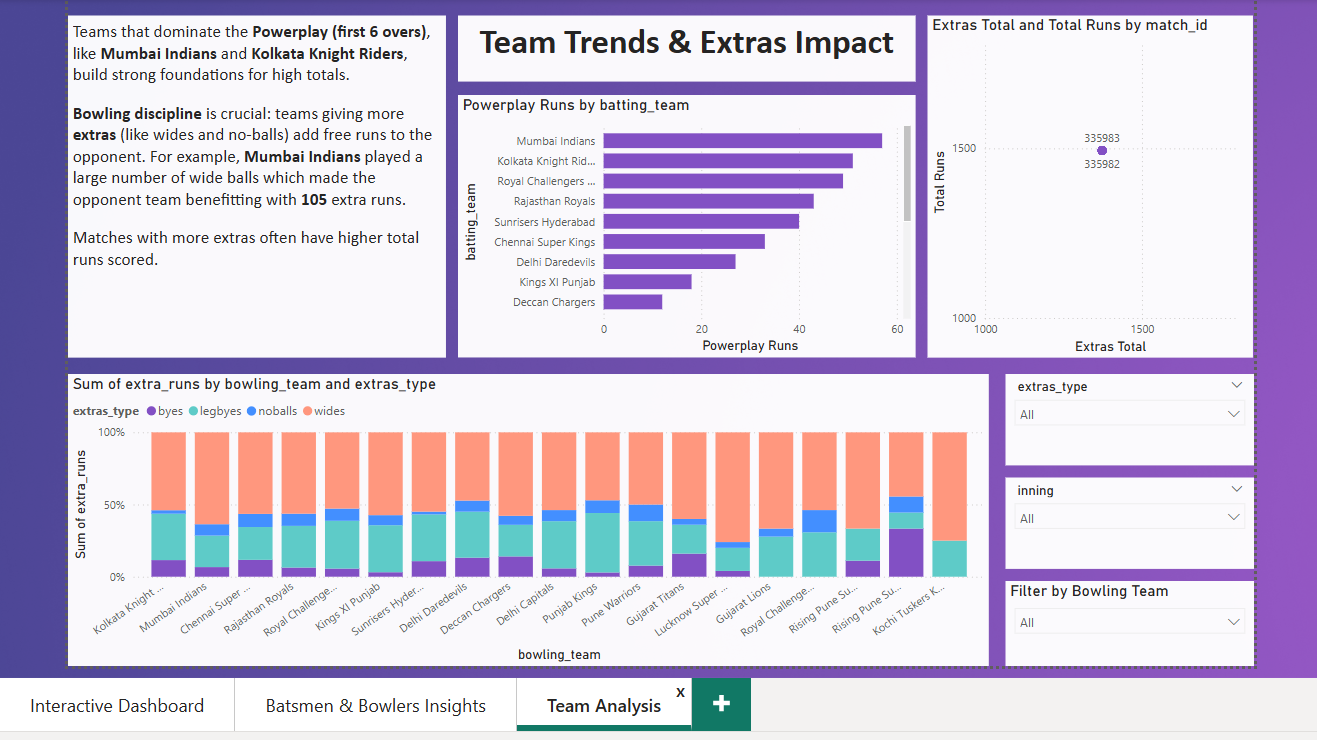

What the dashboard file says about the page in this screenshot:
{"tool":"powerbi","page":{"name":"Team Analysis","canvas":[1280,720],"ordinal":2},"visuals":[{"type":"barChart","fields":{"Y":["IPLdataset.Powerplay Runs"],"Category":["IPLdataset.batting_team"]},"box":[421,103.6,493.9,283.4],"z":0},{"type":"hundredPercentStackedColumnChart","fields":{"Category":["IPLdataset.bowling_team"],"Series":["IPLdataset.extras_type"],"Y":["Sum(IPLdataset.extra_runs)"]},"box":[0,404.8,994.2,315.7],"z":1},{"type":"scatterChart","fields":{"X":["IPLdataset.Extras Total"],"Y":["IPLdataset.Total Runs"],"Category":["DimMatch.match_id","DimTeams.batting_team"]},"box":[928.2,18.5,351.1,369.6],"z":2},{"type":"slicer","fields":{"Values":["IPLdataset.extras_type"]},"box":[1012,404.8,268.8,98.8],"z":3},{"type":"slicer","fields":{"Values":["IPLdataset.inning"]},"box":[1012,516.5,268.8,98.8],"z":4},{"type":"slicer","title":"Filter by Bowling Team","fields":{"Values":["IPLdataset.bowling_team"]},"box":[1012,628.3,268.8,92.3],"z":5},{"type":"textbox","box":[421,17.8,493.9,71.2],"z":6},{"type":"textbox","box":[0,17.8,408,369.2],"z":7}]}

Visuals, with their boxes on the page's 1280x720 design canvas (x1, y1, x2, y2). These are canvas units, not pixel positions in the 1317x740 screenshot, which may show the page scaled, cropped or inside an application window:
barChart - IPLdataset.Powerplay Runs x IPLdataset.batting_team: [left=421, top=104, right=915, bottom=387]
hundredPercentStackedColumnChart - IPLdataset.bowling_team x IPLdataset.extras_type: [left=0, top=405, right=994, bottom=720]
scatterChart - IPLdataset.Extras Total x IPLdataset.Total Runs: [left=928, top=18, right=1279, bottom=388]
slicer - IPLdataset.extras_type: [left=1012, top=405, right=1281, bottom=504]
slicer - IPLdataset.inning: [left=1012, top=516, right=1281, bottom=615]
"Filter by Bowling Team" slicer: [left=1012, top=628, right=1281, bottom=721]
textbox: [left=421, top=18, right=915, bottom=89]
textbox: [left=0, top=18, right=408, bottom=387]
